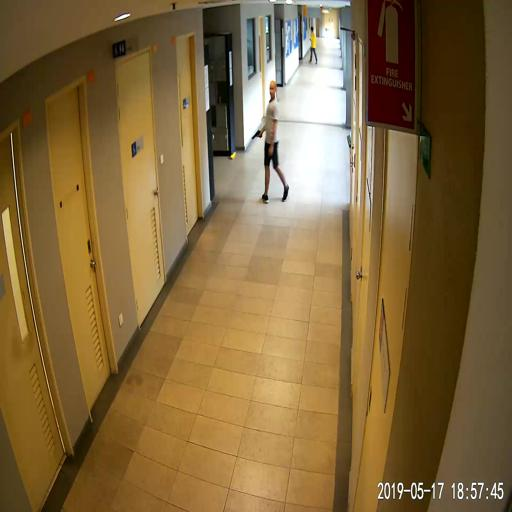pistol: (251, 129, 261, 139)
